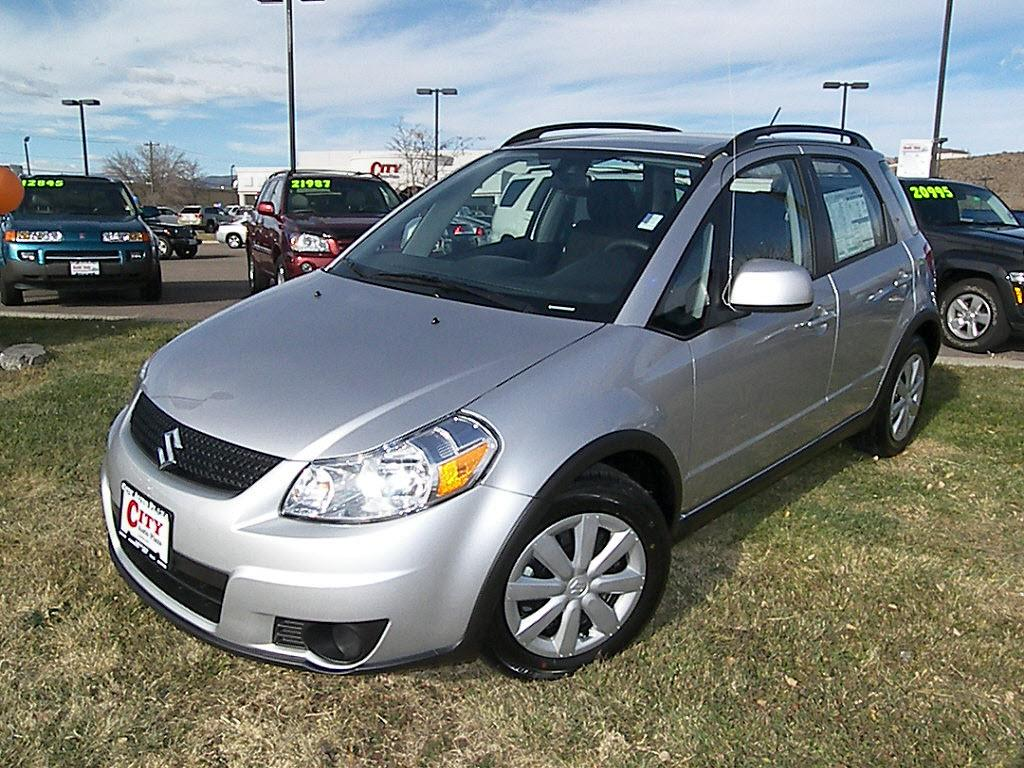Hatchback: (98, 114, 944, 681)
